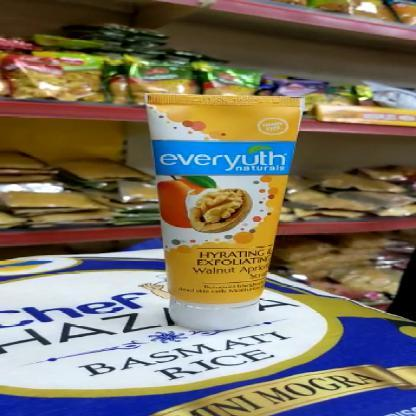EY HYD-EXF WALNT APR SCRUB AYR100G: (136, 90, 305, 331)
